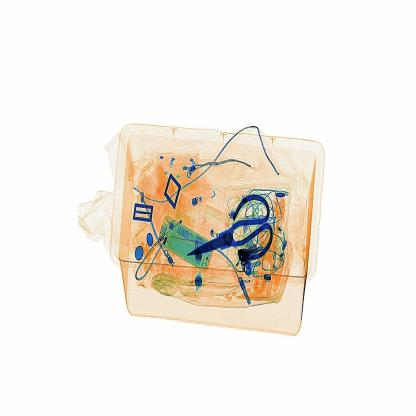gun: (177, 189, 287, 274)
